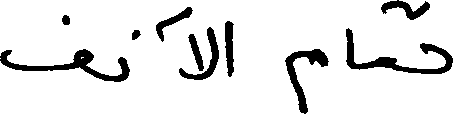ا: (223, 19, 232, 78), (345, 26, 354, 70)
ح: (419, 32, 452, 74)
ف: (0, 12, 90, 75)
لا: (179, 4, 216, 80)
م: (283, 46, 326, 111), (377, 48, 392, 70)
ن: (118, 30, 141, 82)
